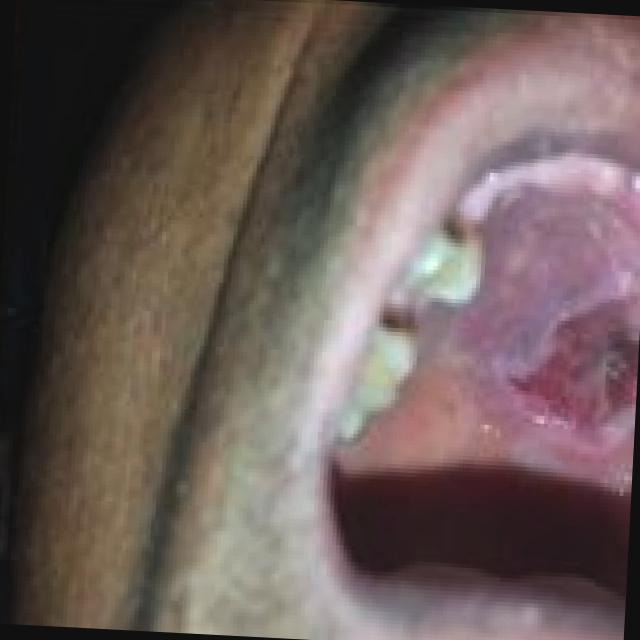Cancer: (432, 153, 640, 526)
